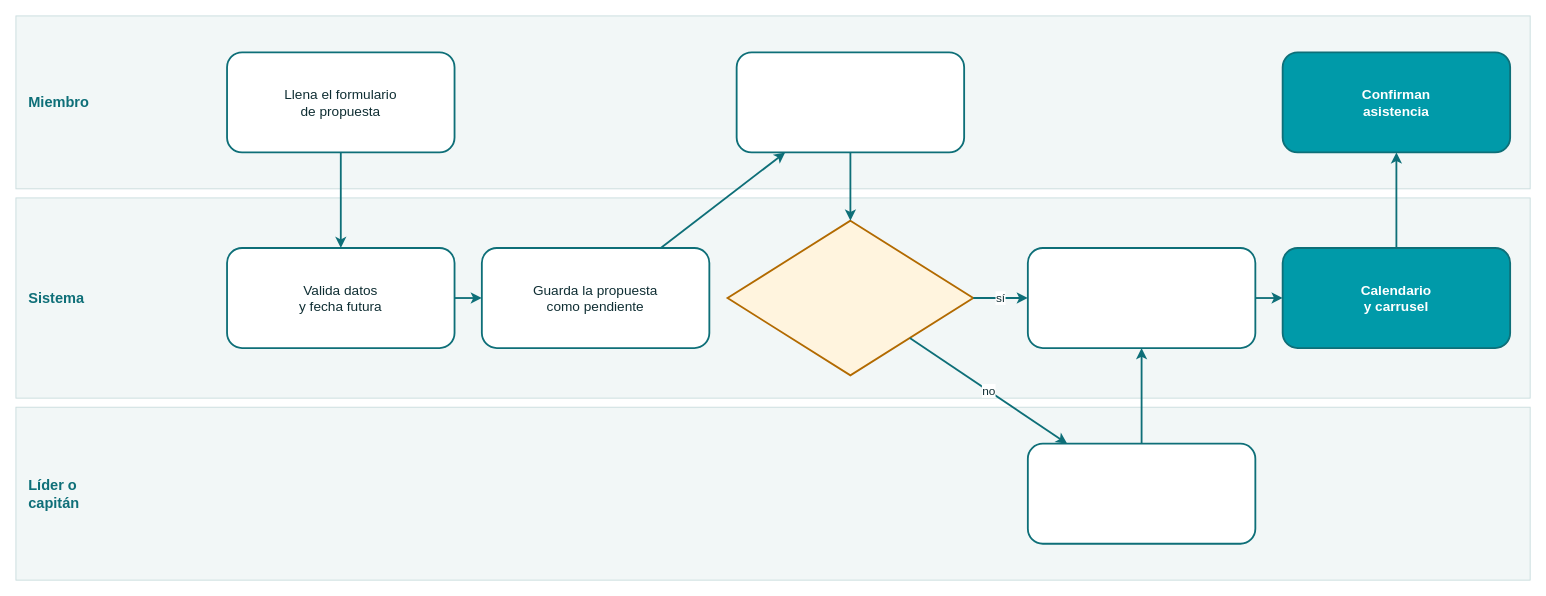
This 1546x596 diagram has some shape labels left out. Each missing label, with the centre of its shape:
Aprueba o rechaza con comentario: pixel 1141 493
Aprueba y notifica al proponente: pixel 1141 298
Los miembros votan: pixel 850 102
¿Apoyos ≥ mitad?: pixel 850 297
